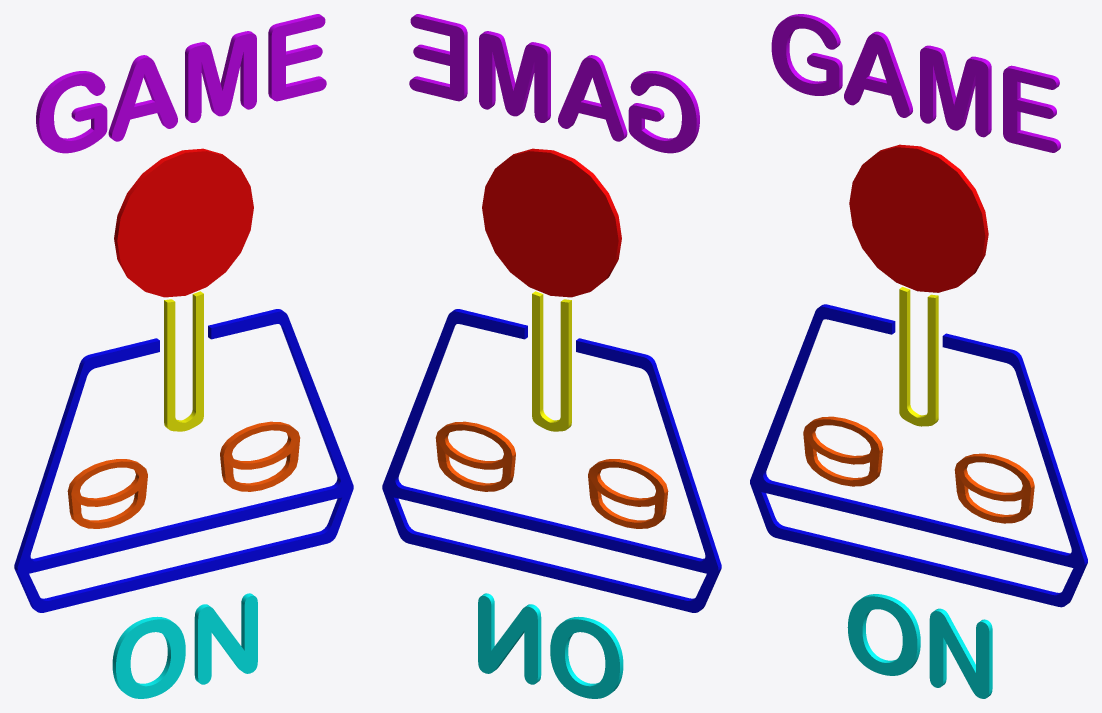
The model's file is sm_joysticklight.fbx.
3 views of the same model, side by side, from view 1: azimuth 30°, elevation 25°; view 2: azimuth 150°, elevation 25°; view 3: azimuth 330°, elevation 25° (orthographic).
Visible parts, largest first — view 1: joysticklight_low (×6); view 2: joysticklight_low (×6); view 3: joysticklight_low (×6).
Part boxes in pixels (left/top/right/bottom): joysticklight_low (×6): left=14, top=14, right=353, bottom=698; joysticklight_low (×6): left=382, top=14, right=721, bottom=698; joysticklight_low (×6): left=750, top=14, right=1087, bottom=698.
Bounding box in the file's own units: 58.1 × 106 × 1.06.
